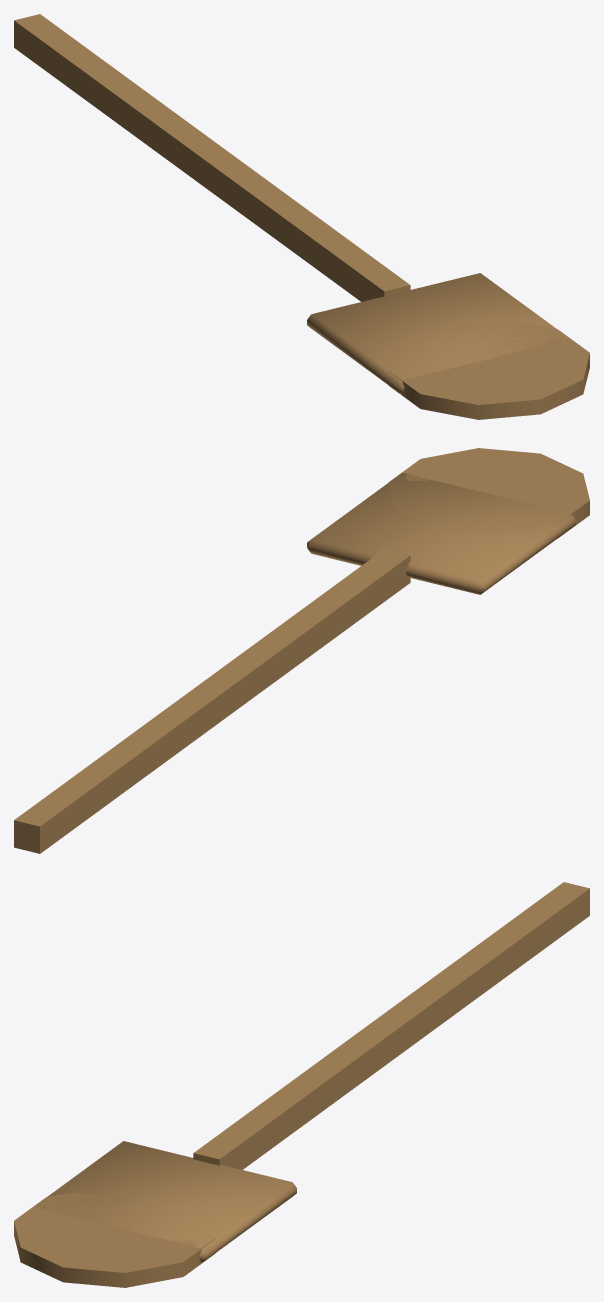
The model's file is crf_peel.glb.
The picture shows the model from 3 angles, top to bottom: view 1: azimuth 30°, elevation 25°; view 2: azimuth 150°, elevation 25°; view 3: azimuth 330°, elevation 25°; orthographic projection.
Visible parts, largest first — view 1: crf_peel; view 2: crf_peel; view 3: crf_peel.
Part boxes in pixels (x1,y1,x2,y2): crf_peel: (14,14,589,419); crf_peel: (14,448,589,853); crf_peel: (14,882,589,1287).
Size of the model in its own units: 0.075 by 0.011 by 0.3745.
